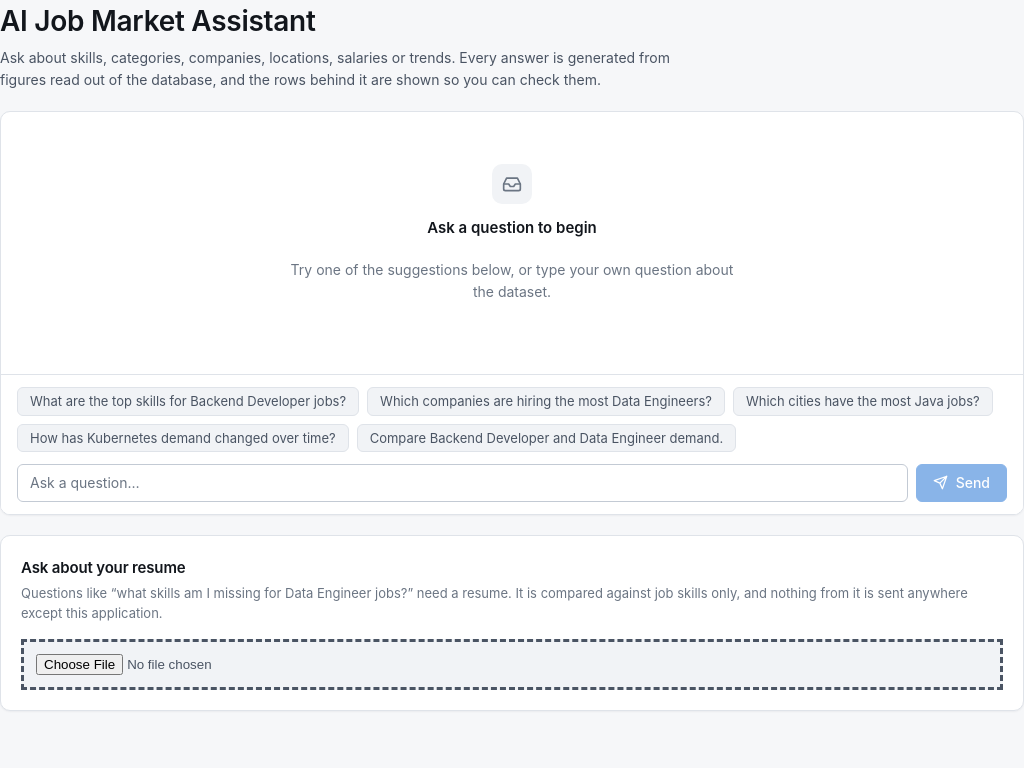
Test: AiAssistant › shows a note when the backend attaches one
Type "what do these pay" into the field named "Your question" at (462, 483), box [17,464,908,502]
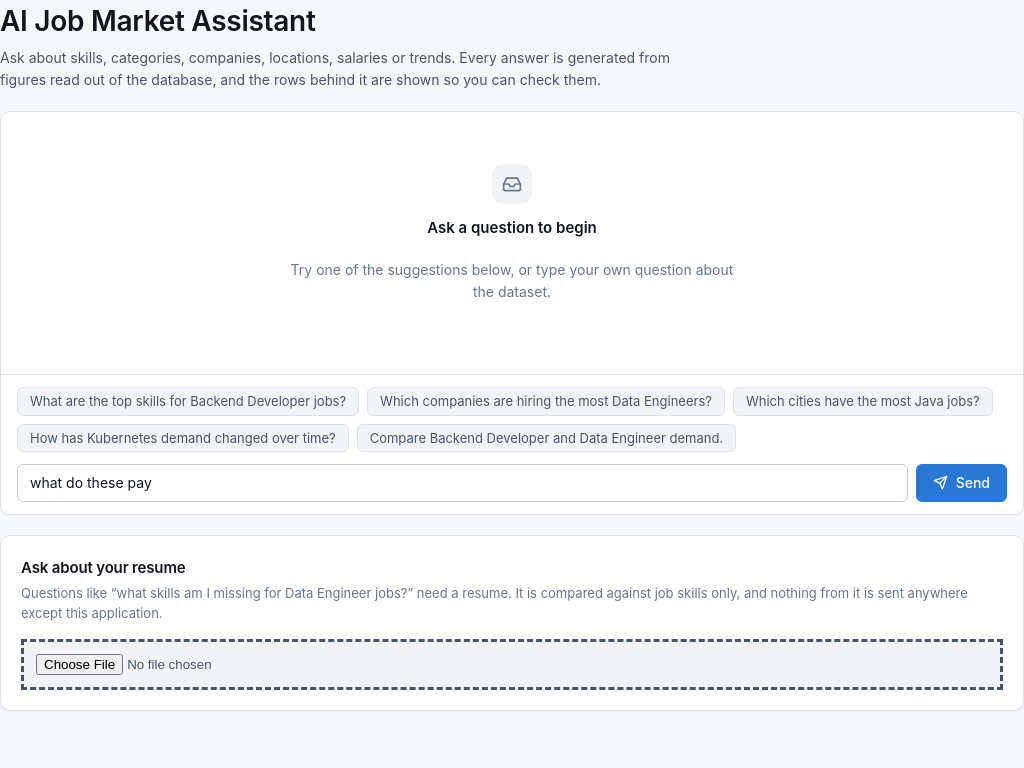
Click the button "Send" at (961, 483), box [916,464,1007,502]
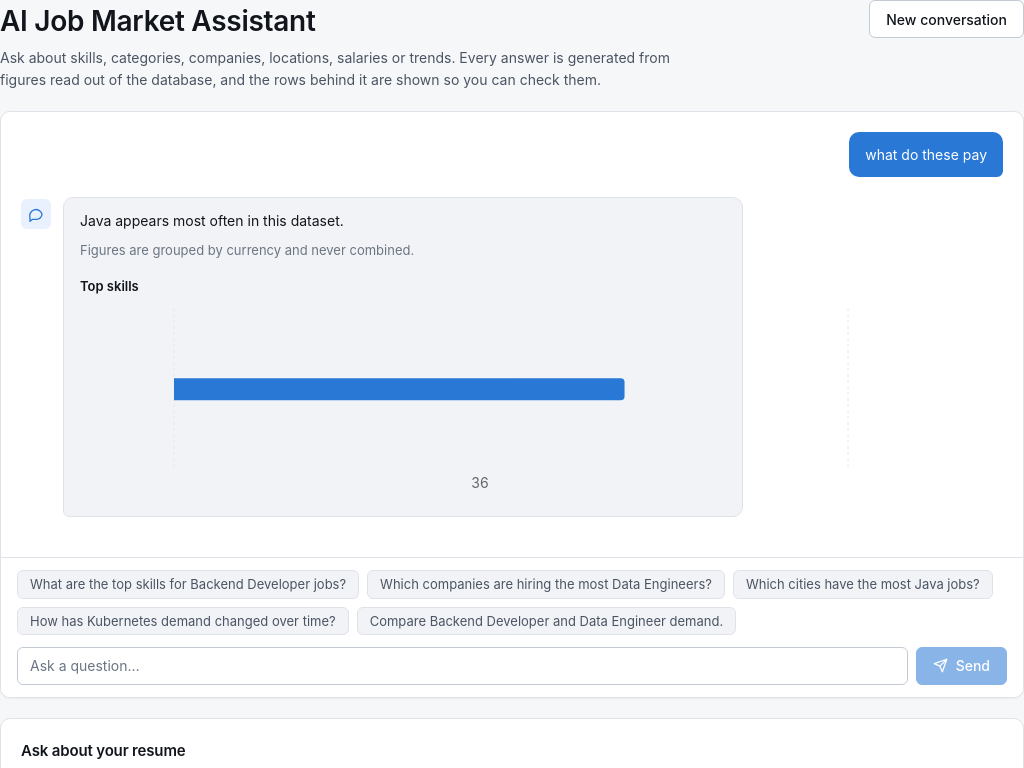
Expected: the text "Figures are grouped by currency and never combined." is shown, [80,242,414,258]
